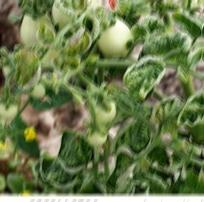Tomato leaf yellow virus: (121, 56, 171, 99), (118, 10, 167, 46), (14, 48, 42, 99), (141, 29, 191, 53), (177, 85, 204, 127), (154, 96, 190, 127)
